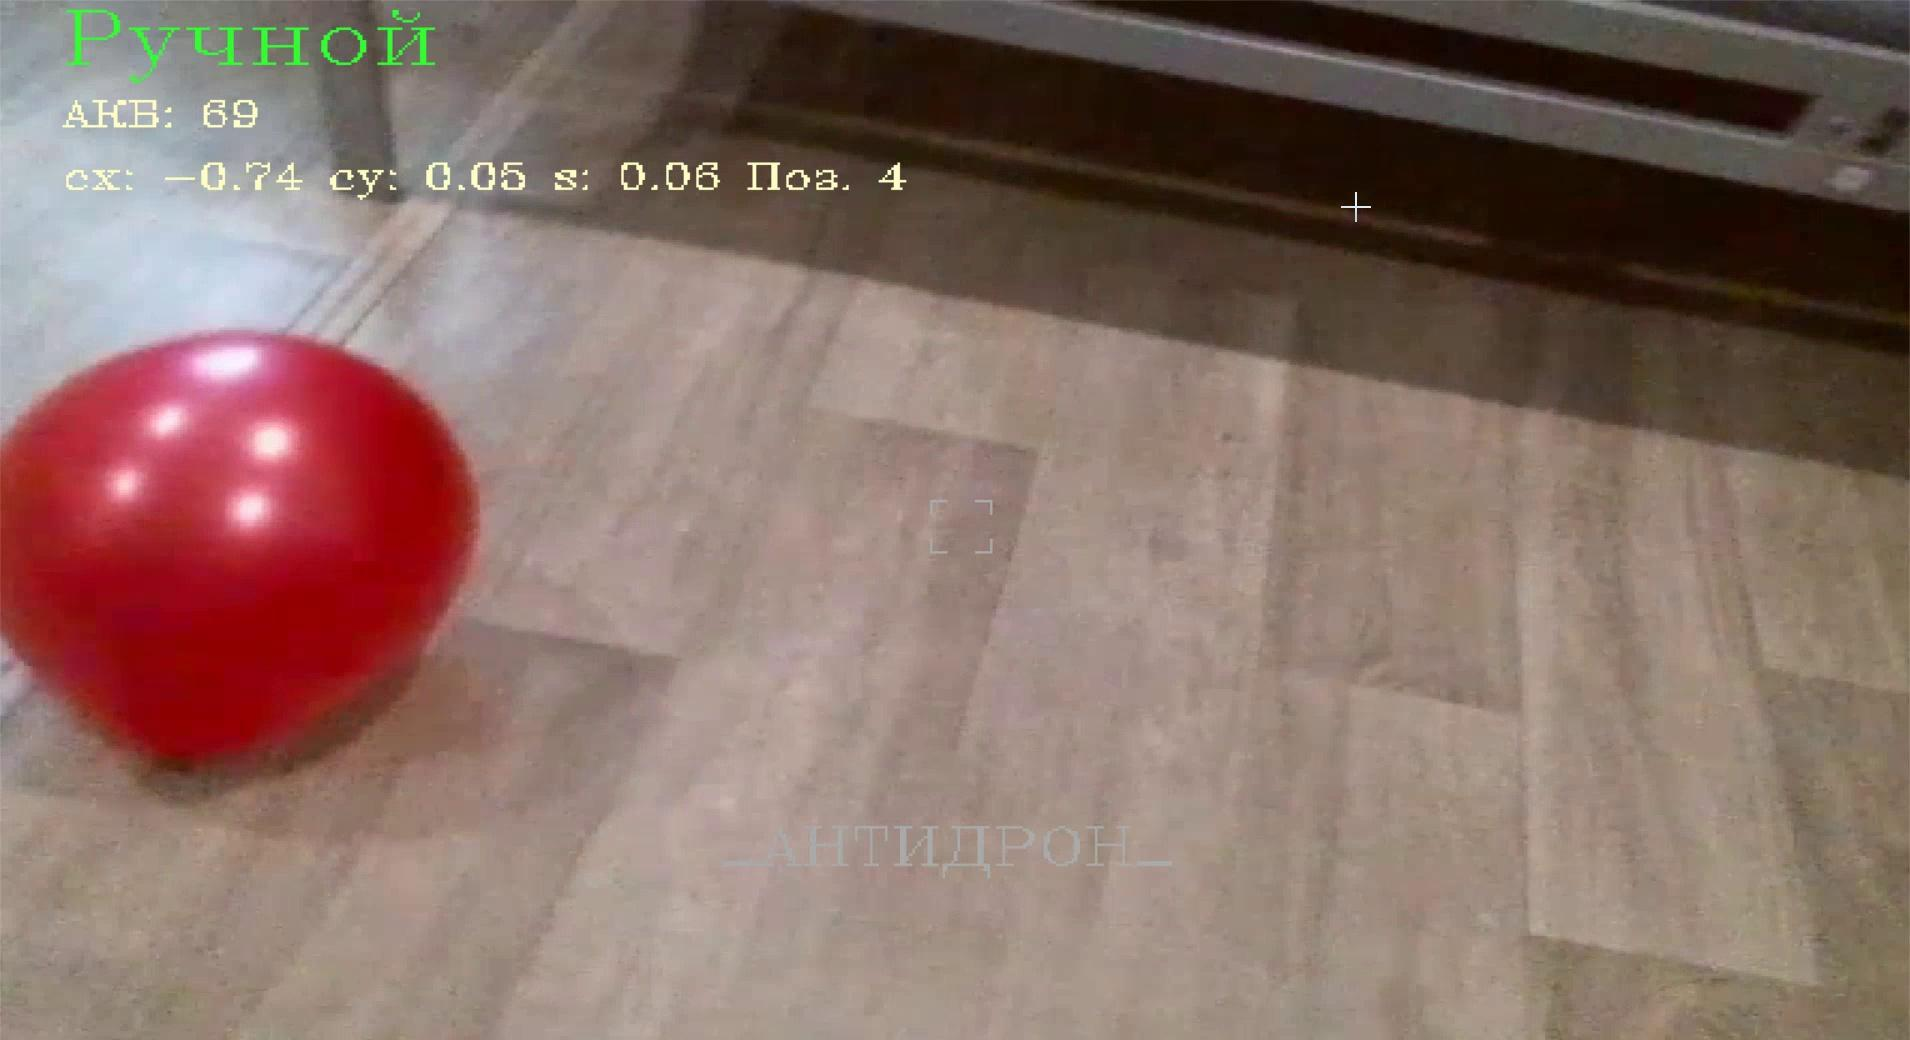red: (0, 325, 485, 768)
